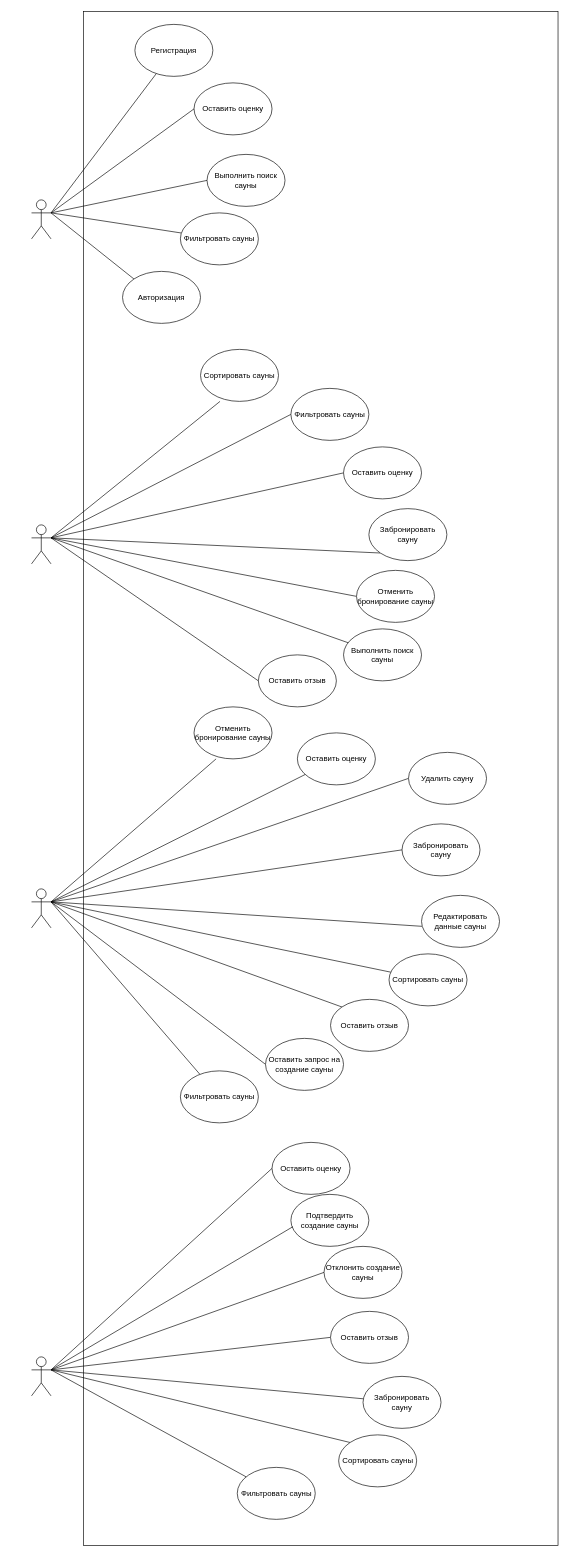
This 569x1557 diagram has some shape labels left out. The centre of each missing label's shape, as x and y in pixels:
"Администратор" belongs at (41,1376).
"Владелец сауны" belongs at (41,908).
"Гость" belongs at (41,219).
"Пользователь" belongs at (41,544).
